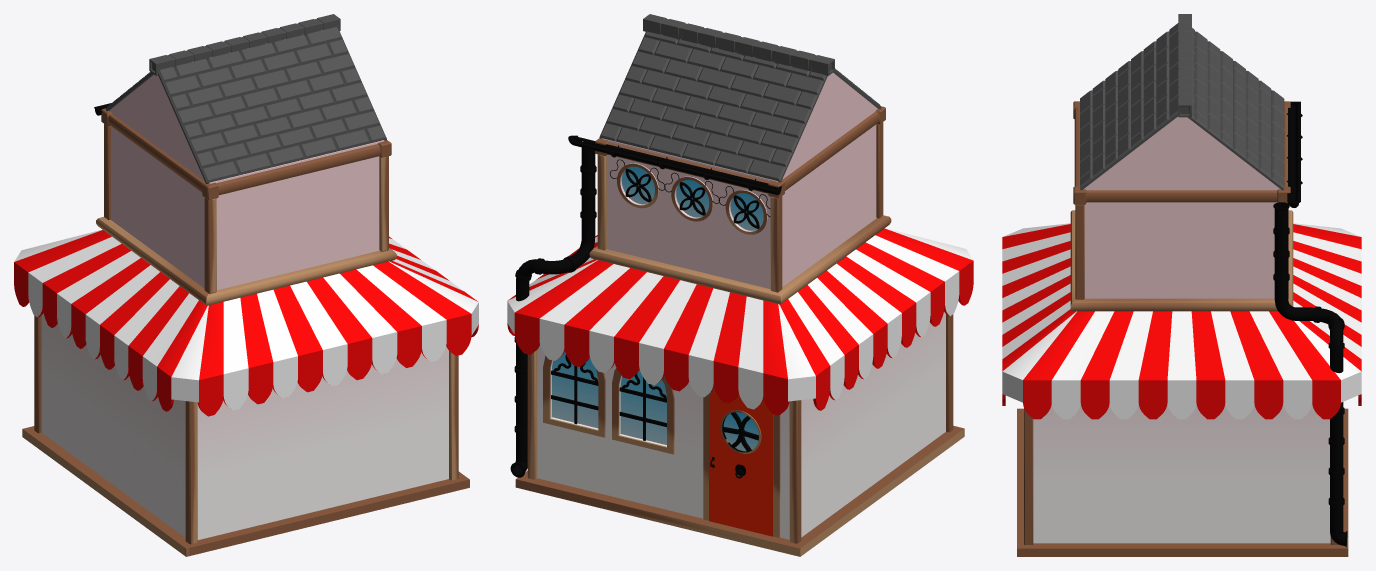
Rendered from house5.fbx.
3 views of the same model, side by side, from view 1: azimuth 30°, elevation 25°; view 2: azimuth 150°, elevation 25°; view 3: azimuth 270°, elevation 25° (orthographic).
Parts seen in each view (by area): view 1: Cube.026; view 2: Cube.026, Cube.097; view 3: Cube.026.
Boxes of the visible parts, box(x1,y1,x2,y2) form: Cube.026: box(14, 14, 478, 556); Cube.026: box(507, 14, 973, 556); Cube.097: box(709, 389, 773, 536); Cube.026: box(1002, 14, 1361, 556).
Size of the model in its own units: 353 by 463 by 353.
8 materials, 3 textured.
